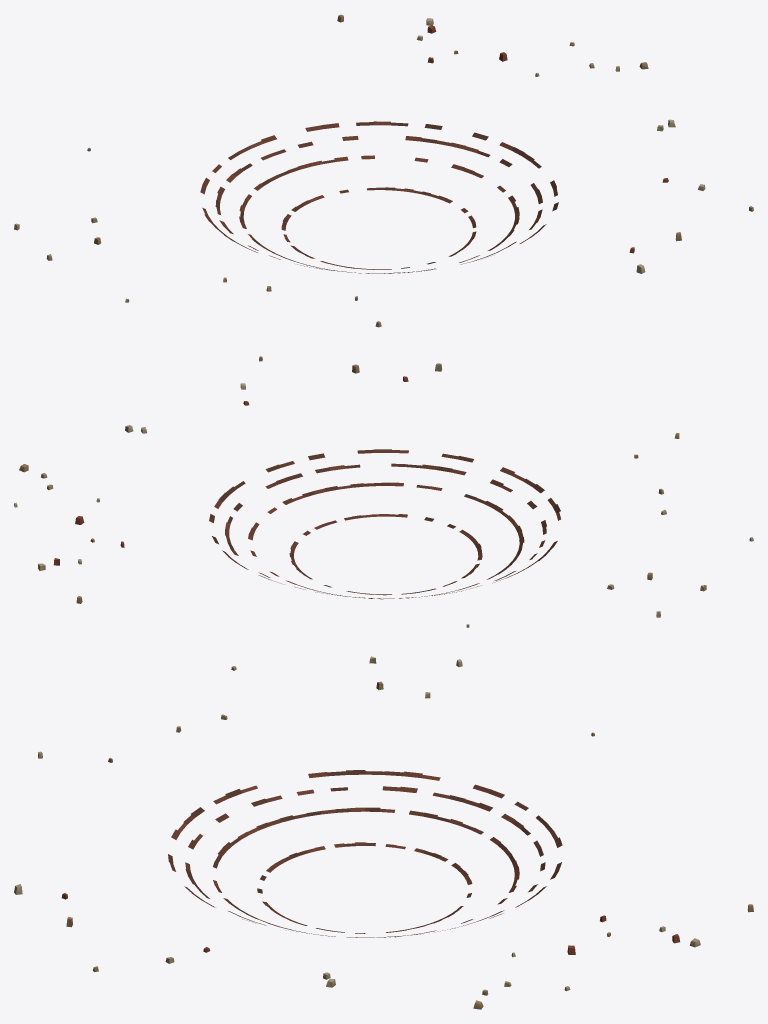
File: crater_ending_detail1.glb
The picture shows the model from 3 angles, top to bottom: view 1: azimuth 30°, elevation 25°; view 2: azimuth 150°, elevation 25°; view 3: azimuth 270°, elevation 25°; orthographic projection. The views are drawn at different scales.
Parts seen in each view (by area): view 1: Detail1; view 2: Detail1; view 3: Detail1.
Part boxes in pixels (x1,y1,x2,y2): Detail1: (14,14,753,327); Detail1: (14,356,753,627); Detail1: (14,656,753,1009).
Size of the model in its own units: 672 by 54.13 by 604.
